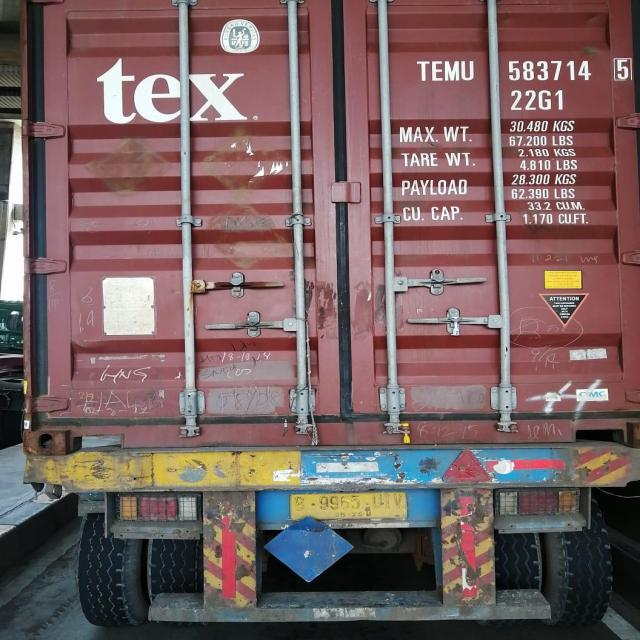seal: (401, 421, 415, 443), (451, 317, 463, 337)
